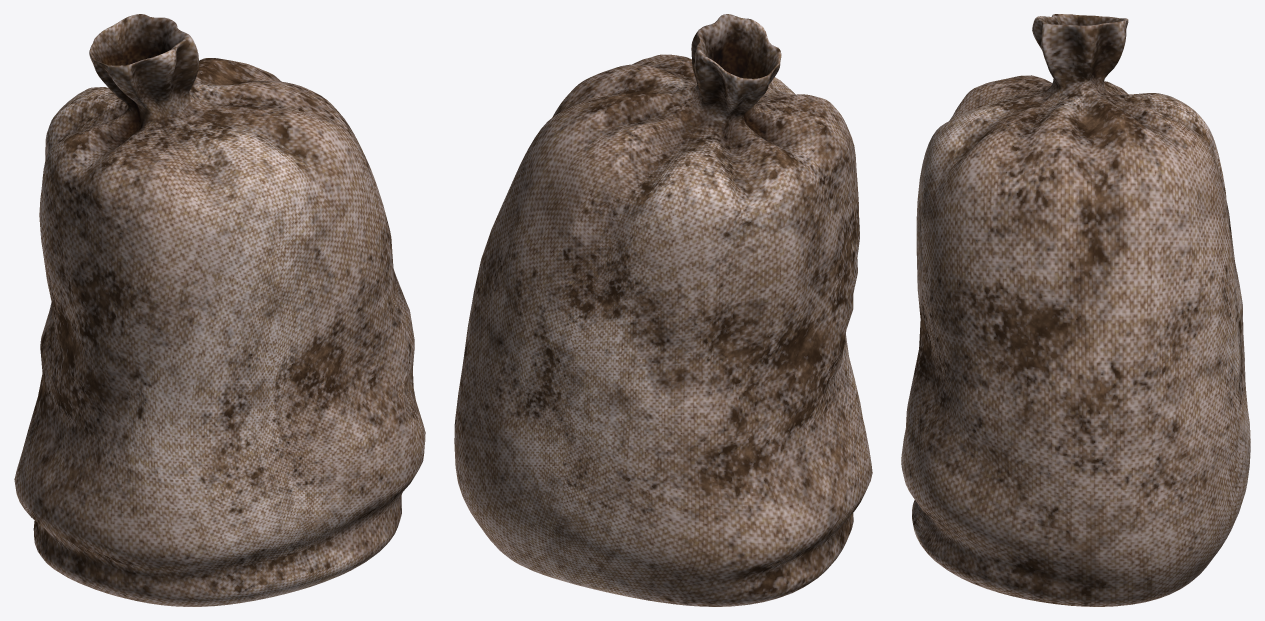
The model's file is Bag.fbx.
The picture shows the model from 3 angles, left to right: view 1: azimuth 30°, elevation 25°; view 2: azimuth 150°, elevation 25°; view 3: azimuth 270°, elevation 25°; orthographic projection. The views are drawn at different scales.
Visible parts, largest first — view 1: Bag MidPoly; view 2: Bag MidPoly; view 3: Bag MidPoly.
Boxes of the visible parts, left/top/right/bottom form: Bag MidPoly: left=14, top=14, right=425, bottom=606; Bag MidPoly: left=454, top=14, right=872, bottom=606; Bag MidPoly: left=901, top=14, right=1250, bottom=606.
Bounding box in the file's own units: 101 × 148 × 91.09.
1 material, 1 textured.
